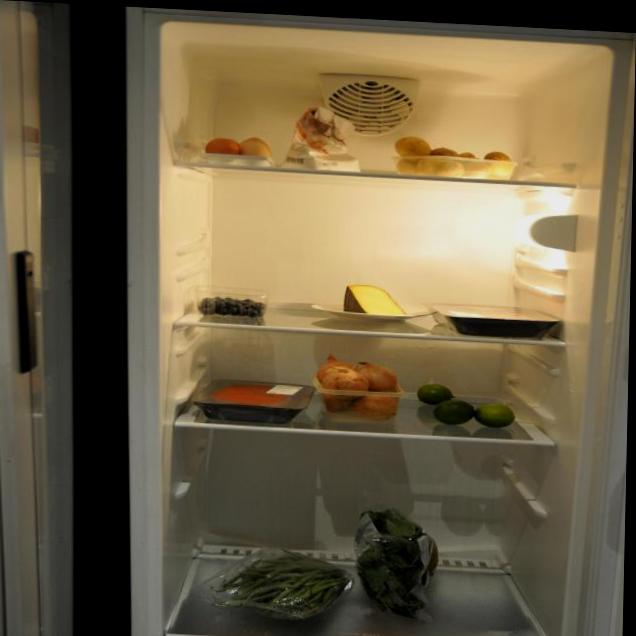beef: (202, 375, 296, 422)
blueberries: (194, 290, 268, 321)
cheese: (344, 283, 407, 320)
eggs: (202, 133, 278, 170)
flour: (282, 103, 364, 172)
green_beans: (212, 544, 346, 633)
lime: (414, 380, 522, 431)
onion: (313, 357, 407, 428)
potato: (394, 133, 519, 182)
spinach: (353, 499, 434, 628)
